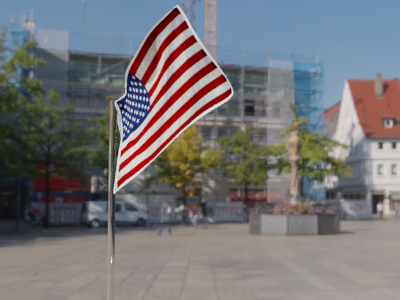America flag: (112, 4, 235, 191)
